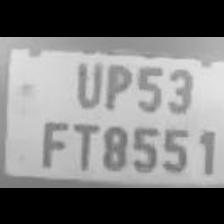1: (190, 123, 220, 173)
3: (163, 60, 195, 114)
5: (132, 58, 164, 114), (158, 119, 190, 173), (128, 118, 158, 172)
8: (97, 118, 129, 172)
F: (36, 114, 70, 168)
P: (100, 58, 132, 110)
T: (68, 116, 98, 170)
U: (72, 55, 102, 109)
